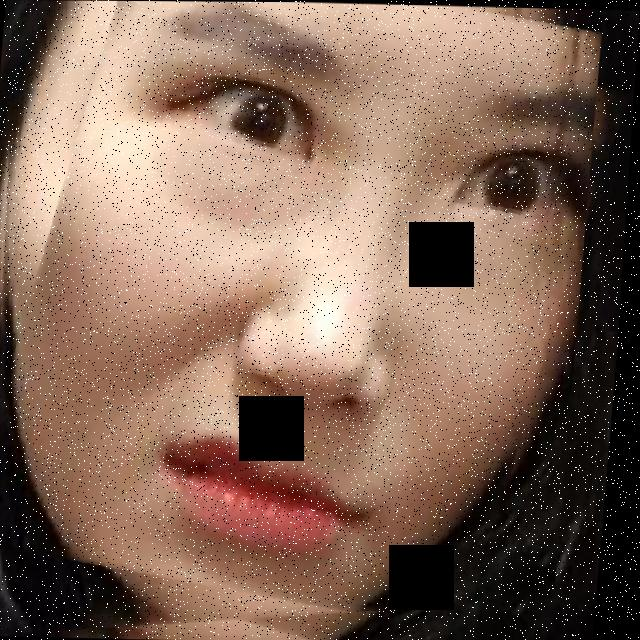anger: (0, 0, 603, 640)
